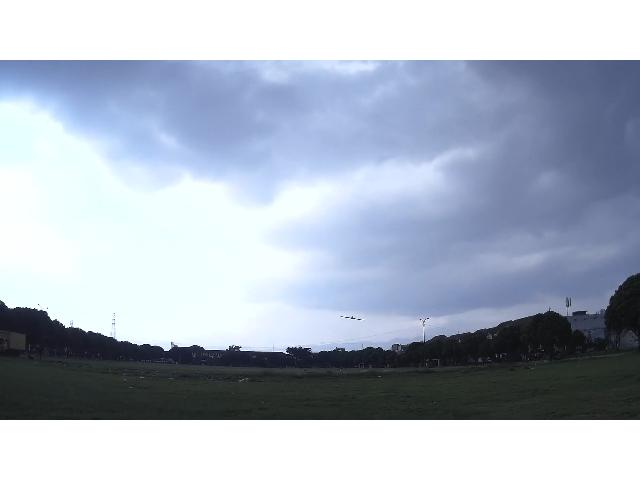Anti-Drone: (340, 316, 364, 320)
